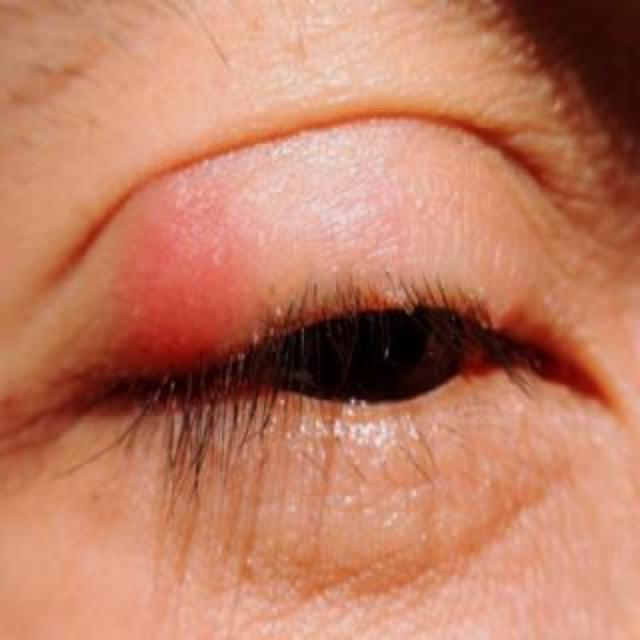Stye: (67, 182, 270, 422)
